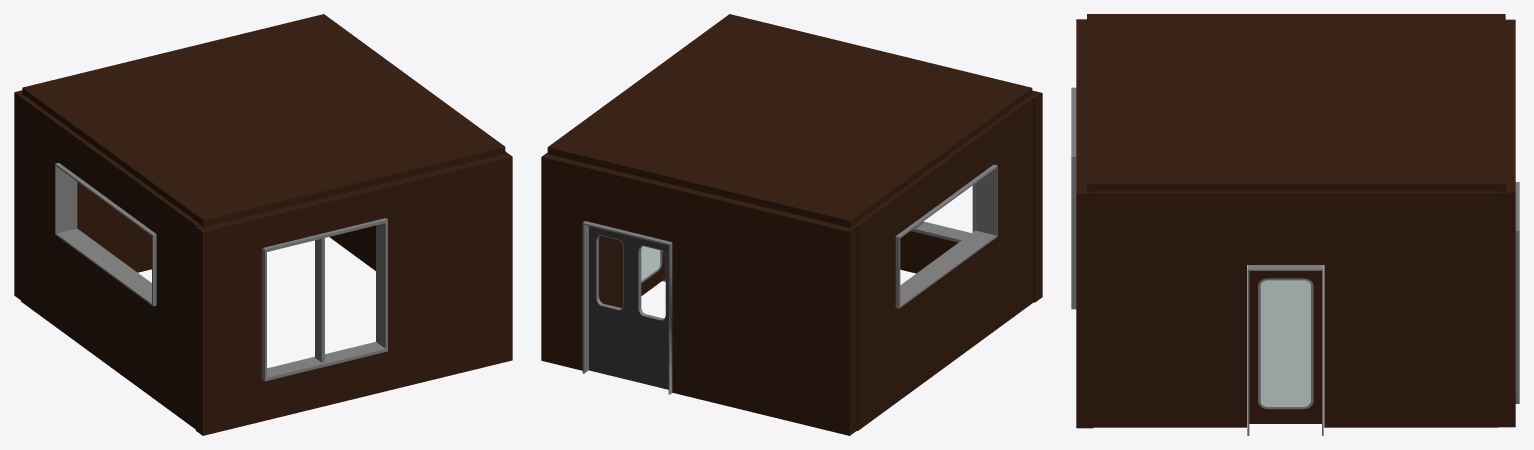
File: Shell.fbx
3 views of the same model, side by side, from view 1: azimuth 30°, elevation 25°; view 2: azimuth 150°, elevation 25°; view 3: azimuth 270°, elevation 25° (orthographic). The views are drawn at different scales.
Parts seen in each view (by area): view 1: Parede, Cube, JanelaFrame, JanelaFrame.001; view 2: Parede, Cube, Porta, JanelaFrame.001, ArcoDaPorta.001, porta.002, JanelaFrame; view 3: Parede, Cube, porta.002, JanelaFrame, moldporta.001, ArcoDaPorta.001.
Boxes of the visible parts, x1,y1,x2,y2 form: Parede: (14,90,512,435); Cube: (22,14,505,227); JanelaFrame: (261,218,387,381); JanelaFrame.001: (55,162,156,306); Parede: (541,90,1042,435); Cube: (547,14,1032,227); Porta: (589,226,668,389); JanelaFrame.001: (895,164,997,308); ArcoDaPorta.001: (582,221,672,394); porta.002: (641,246,665,295); JanelaFrame: (911,184,975,242); Parede: (1076,19,1515,428); Cube: (1087,14,1505,191); porta.002: (1249,271,1321,423); JanelaFrame: (1071,87,1076,309); moldporta.001: (1247,265,1323,435); ArcoDaPorta.001: (1515,182,1519,403).
Size of the model in its own units: 512 by 328 by 540.
